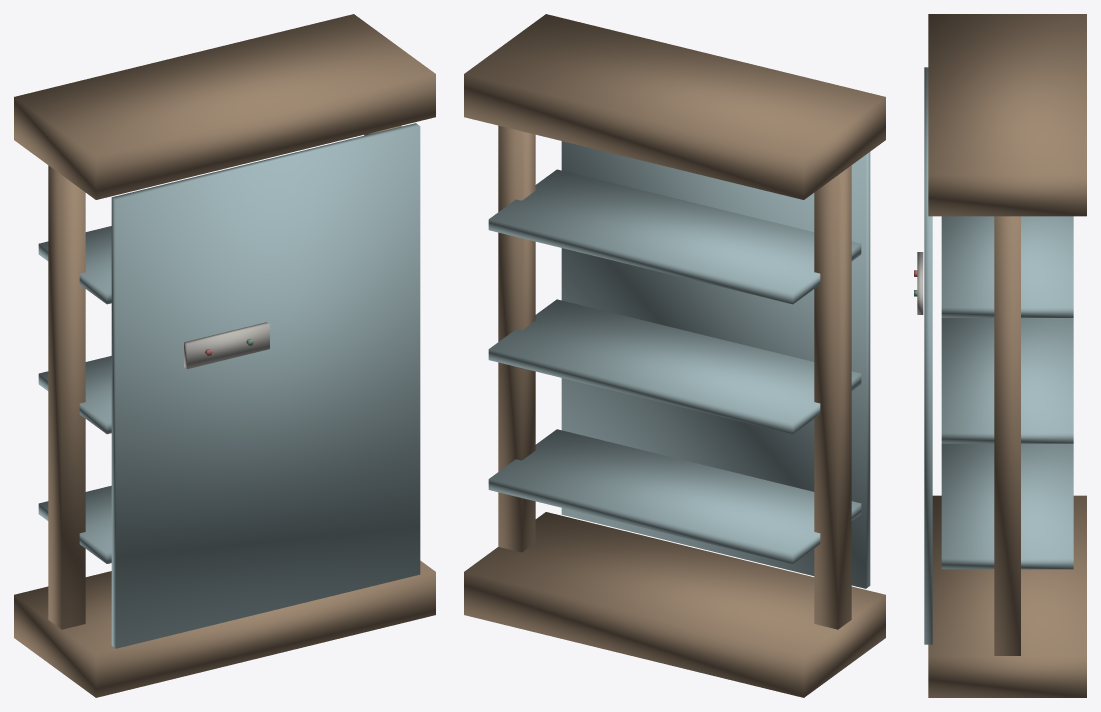
File: glass_display_cabinet.glb
3 renders of one model, left to right at view 1: azimuth 30°, elevation 25°; view 2: azimuth 150°, elevation 25°; view 3: azimuth 270°, elevation 25°, orthographic. The views are drawn at different scales.
Visible parts, largest first — view 1: world; view 2: world; view 3: world.
Part boxes in pixels (box(x1,y1,x2,y2)): world: box(14, 14, 435, 697); world: box(464, 14, 885, 697); world: box(914, 14, 1086, 697).
Bounding box in the file's own units: 1.15 × 1.75 × 0.5235.
